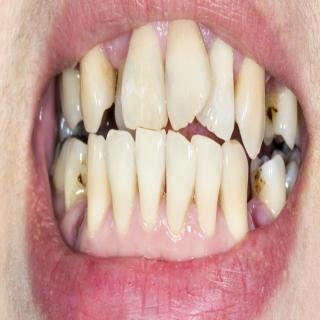LL1BC_sdecay: (250, 155, 287, 212)
LL2BC_sdecay: (271, 150, 300, 180)
LLCI_healthy: (165, 131, 195, 227)
LLC_healthy: (223, 140, 249, 224)
LLLI_healthy: (191, 134, 222, 222)
LR1BC_sdecay: (64, 137, 87, 210)
LRCI_healthy: (135, 129, 164, 222)
LRC_healthy: (87, 133, 111, 225)
LRLI_healthy: (105, 129, 135, 222)
UL1BC_sdecay: (263, 87, 297, 150)
ULCI_healthy: (165, 19, 209, 131)
ULC_mdecay: (234, 57, 265, 159)
ULLI_healthy: (196, 38, 235, 141)
UR1BC_healthy: (61, 69, 82, 127)
URCI_healthy: (123, 24, 168, 129)
URC_healthy: (80, 45, 115, 133)
URLI_healthy: (114, 66, 136, 130)
